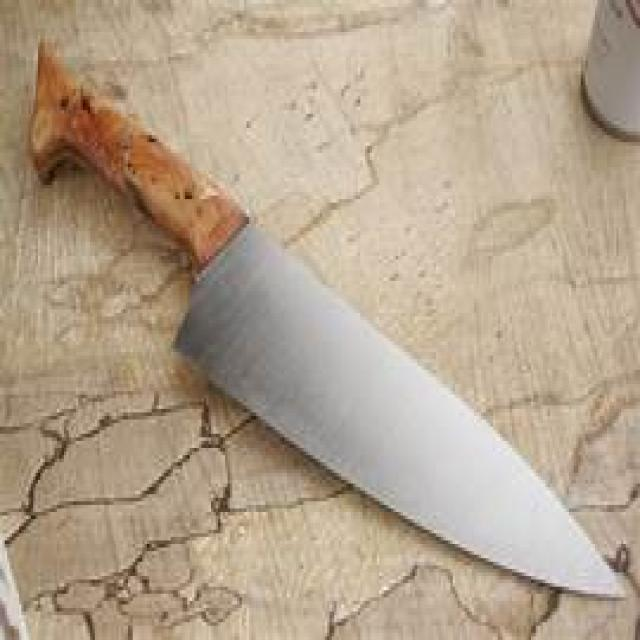Knife: (31, 53, 619, 590)
